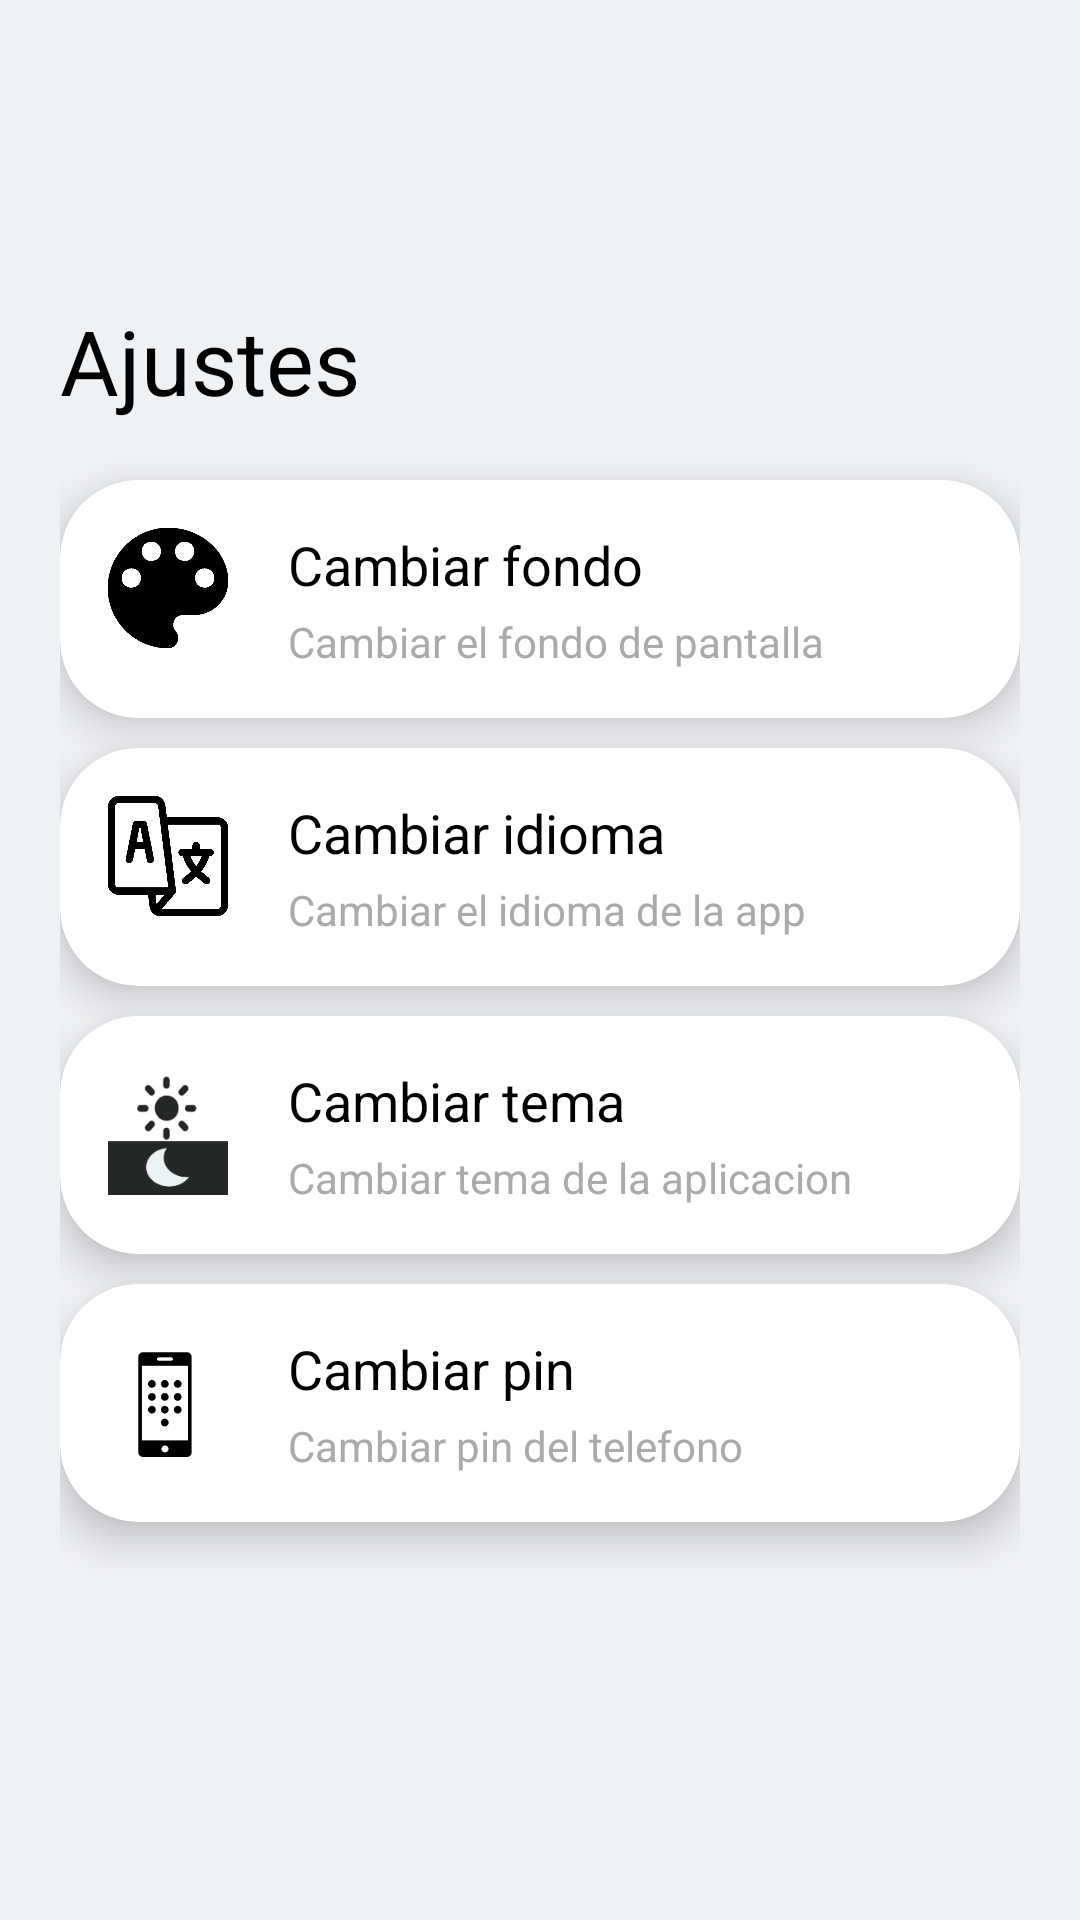

Screen size 1080*1920. Icon name, then its box in pixels as (x1, y1, x2, y2):
language: (108, 796, 228, 916)
mobilepin: (138, 1352, 192, 1457)
paleta: (108, 528, 228, 648)
thememode: (108, 1076, 228, 1195)
